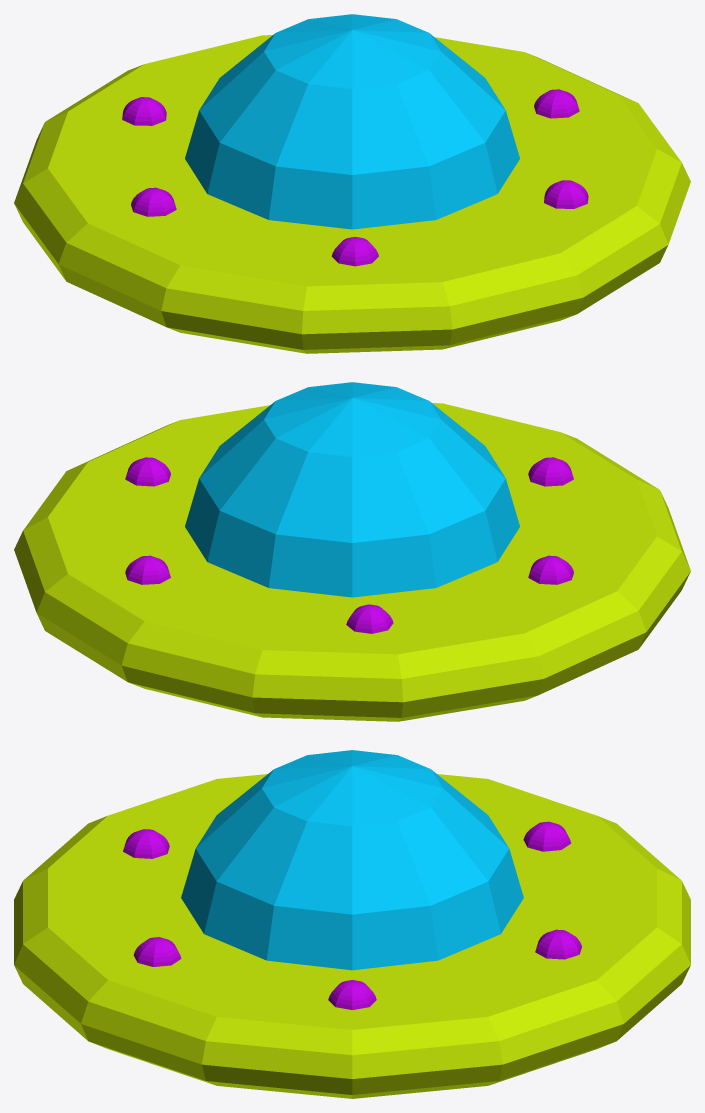
File: jaune.glb
3 renders of one model, top to bottom at view 1: azimuth 30°, elevation 25°; view 2: azimuth 150°, elevation 25°; view 3: azimuth 270°, elevation 25°, orthographic. The views are drawn at different scales.
Visible parts, largest first — view 1: jaune; view 2: jaune; view 3: jaune.
Boxes of the visible parts, x1,y1,x2,y2 form: jaune: [14, 14, 690, 353]; jaune: [14, 382, 690, 721]; jaune: [14, 750, 690, 1098].
Bounding box in the file's own units: 22.15 × 7.74 × 21.6.
